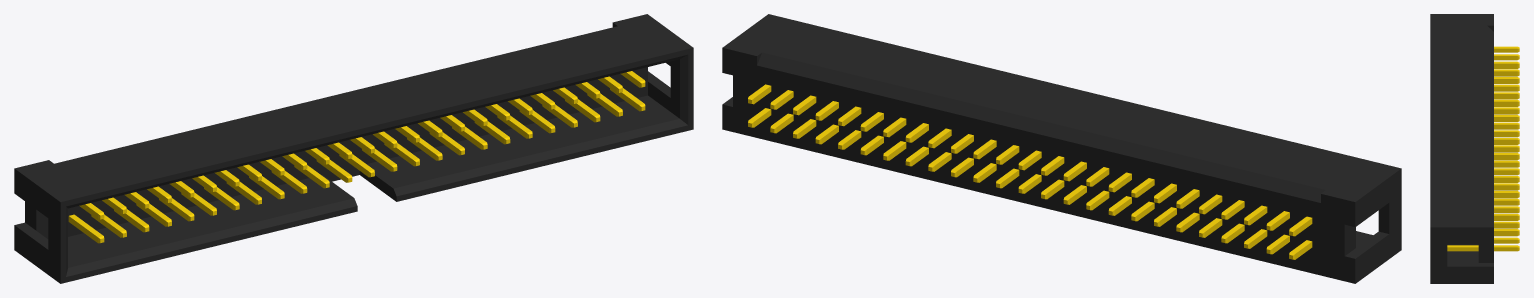
File: DS1013-50S (IDC-50MS CONNFLY).obj
The picture shows the model from 3 angles, left to right: view 1: azimuth 30°, elevation 25°; view 2: azimuth 150°, elevation 25°; view 3: azimuth 270°, elevation 25°; orthographic projection. The views are drawn at different scales.
Visible parts, largest first — view 1: DS1013-50S_(IDC-50MS_CONNFLY); view 2: DS1013-50S_(IDC-50MS_CONNFLY); view 3: DS1013-50S_(IDC-50MS_CONNFLY).
Part boxes in pixels (left/top/right/bottom): DS1013-50S_(IDC-50MS_CONNFLY): left=14, top=14, right=693, bottom=283; DS1013-50S_(IDC-50MS_CONNFLY): left=722, top=14, right=1401, bottom=283; DS1013-50S_(IDC-50MS_CONNFLY): left=1430, top=14, right=1519, bottom=283.
Size of the model in its own units: 0.0183 by 0.00228 by 0.00323.
